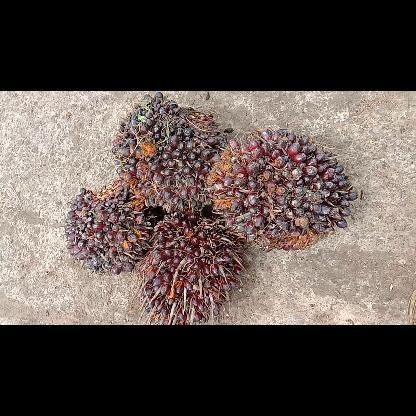Kurang masak: (204, 124, 360, 252), (107, 92, 226, 218), (138, 210, 250, 324), (62, 180, 158, 276)
